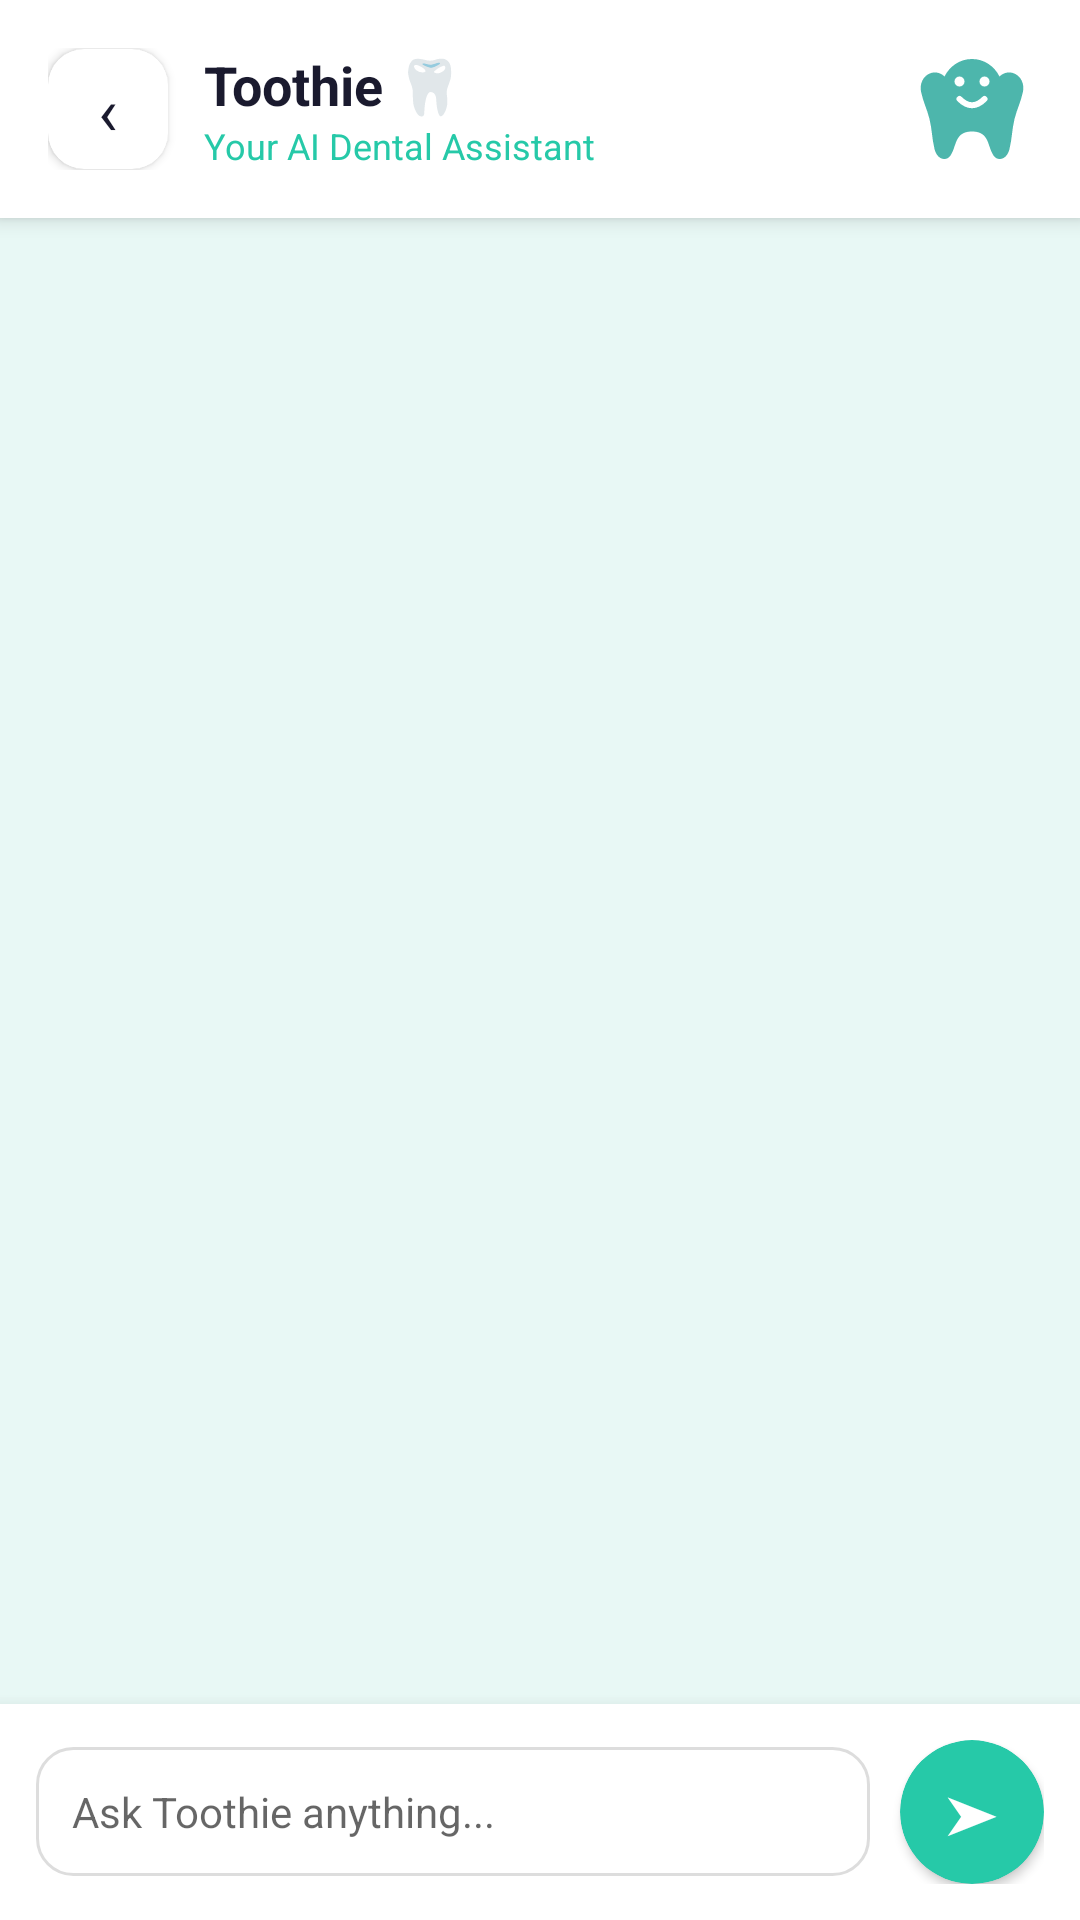

Point at icon controls on the screen. Image size 1080×1920, points as [x,y].
toothie: [972,109]
